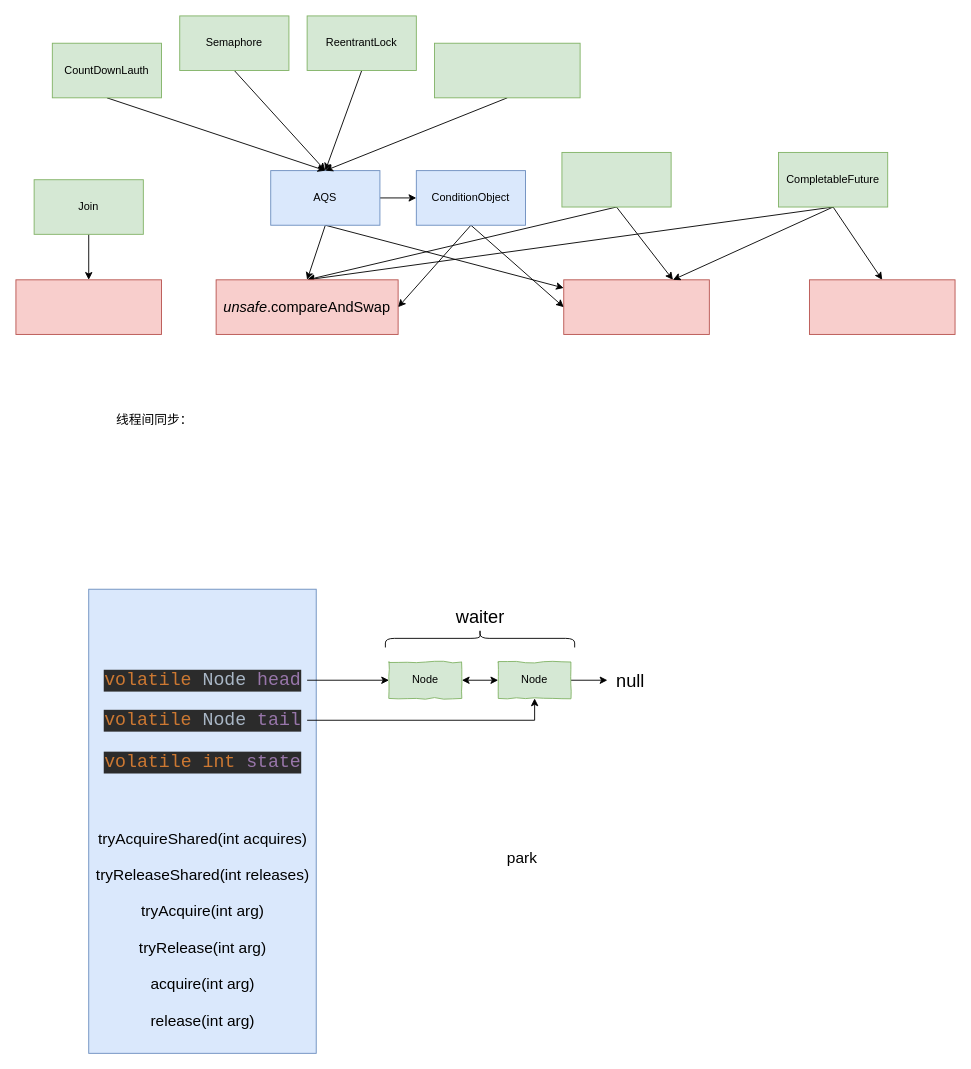
Some shapes in this 971 by 1069 pixel diagram are drawn without their labels. The box of each missing label's shape, as (x1, y1, x2, y2) in pixels:
AbstractQueuedSynchronizer: (88, 588, 316, 1053)
ForkJoinPool.managedBlock: (809, 279, 955, 334)
FutureTask: (561, 152, 671, 207)
LockSupport.park/unpark: (563, 279, 709, 334)
ReentrantReadWriteLock: (434, 42, 580, 98)
wait: (15, 279, 162, 334)
